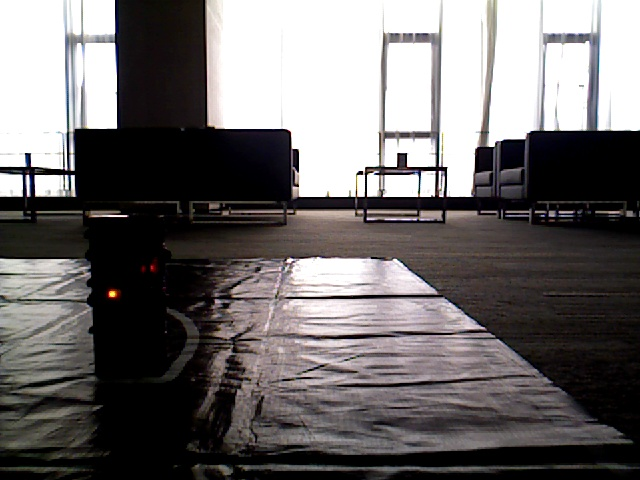yellow: (88, 217, 140, 338)
